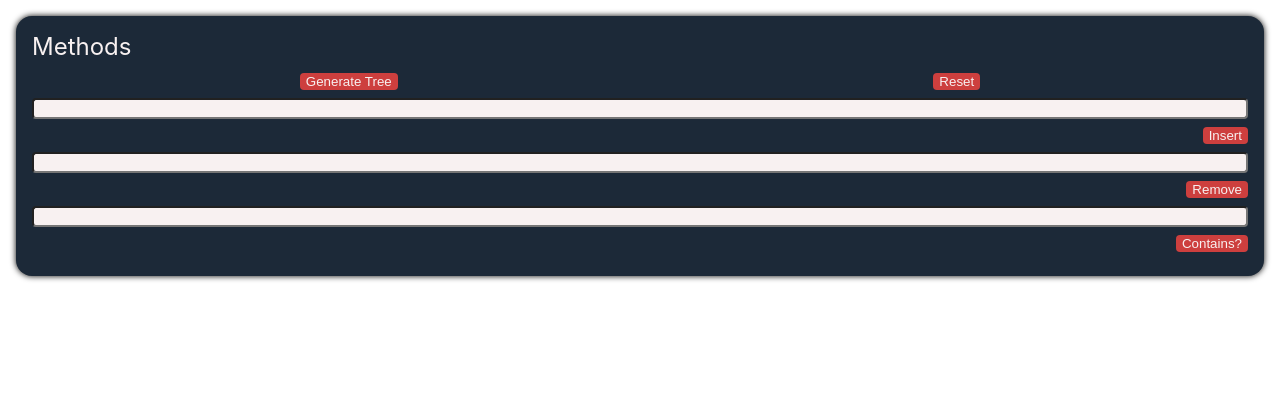
it: TreeComponent › inserts value
The width and height of the screenshot is (1280, 394).
Step 1. Type "3" into the number field with test id "insert-value" → x=640, y=109, box [32,98,1248,119]
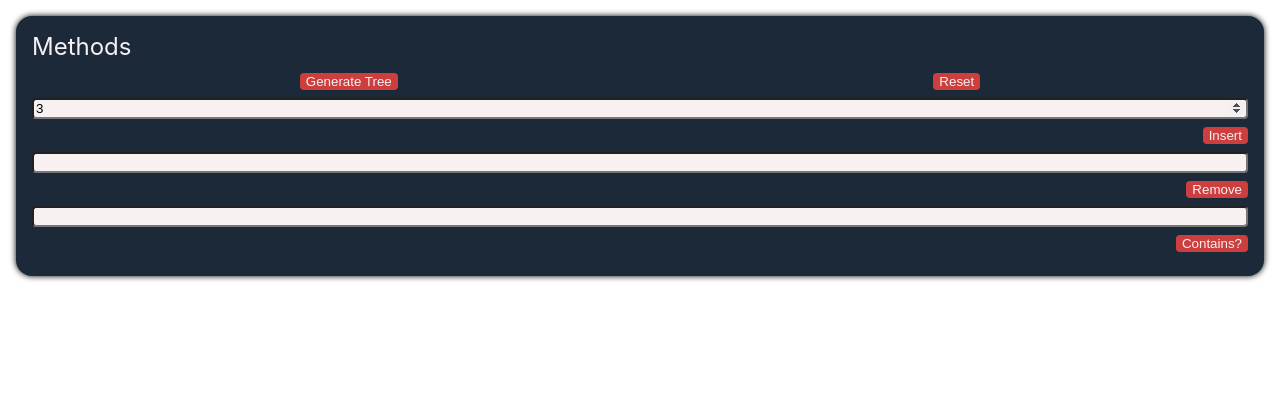
Step 2. Click the button with test id "insert-submit" → x=1226, y=136, box [1203,127,1248,144]
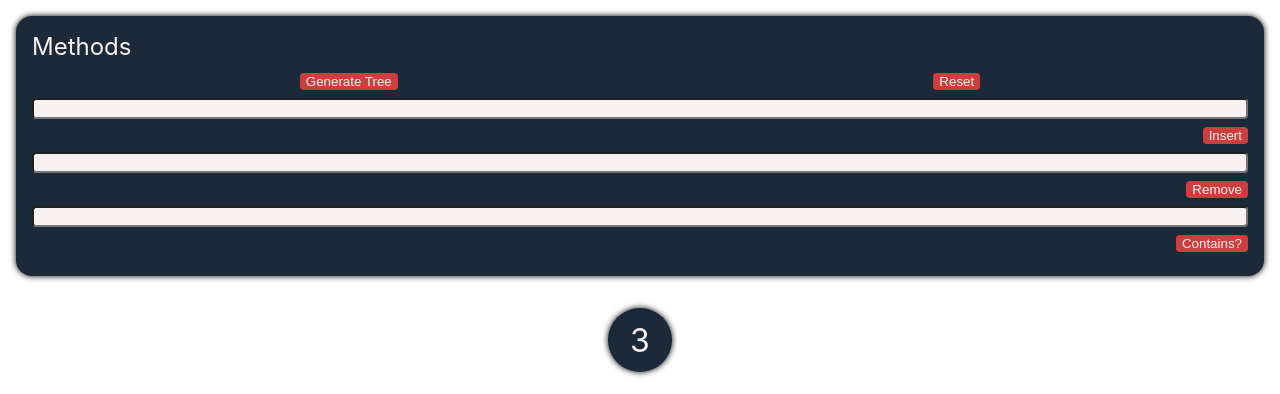
Result: the element with test id "bst-node bst-root" reads "3" at [608,308,672,372]
